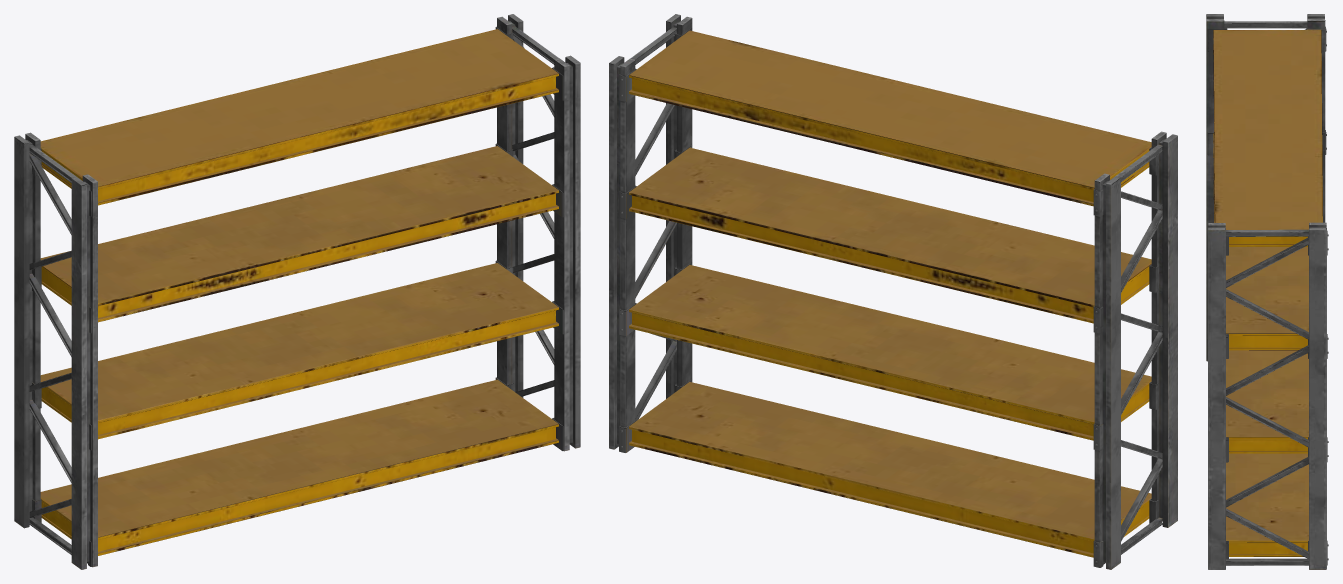
Rendered from warehouse_shelving_3_low_poly.glb.
3 renders of one model, left to right at view 1: azimuth 30°, elevation 25°; view 2: azimuth 150°, elevation 25°; view 3: azimuth 270°, elevation 25°, orthographic. The views are drawn at different scales.
Visible parts, largest first — view 1: SHELVING_0; view 2: SHELVING_0; view 3: SHELVING_0.
Boxes of the visible parts, <box> form: SHELVING_0: <box>14,14,580,569</box>; SHELVING_0: <box>609,14,1177,569</box>; SHELVING_0: <box>1206,14,1328,569</box>.
Size of the model in its own units: 4.41 by 3.24 by 1.05.
1 material, 1 textured.
